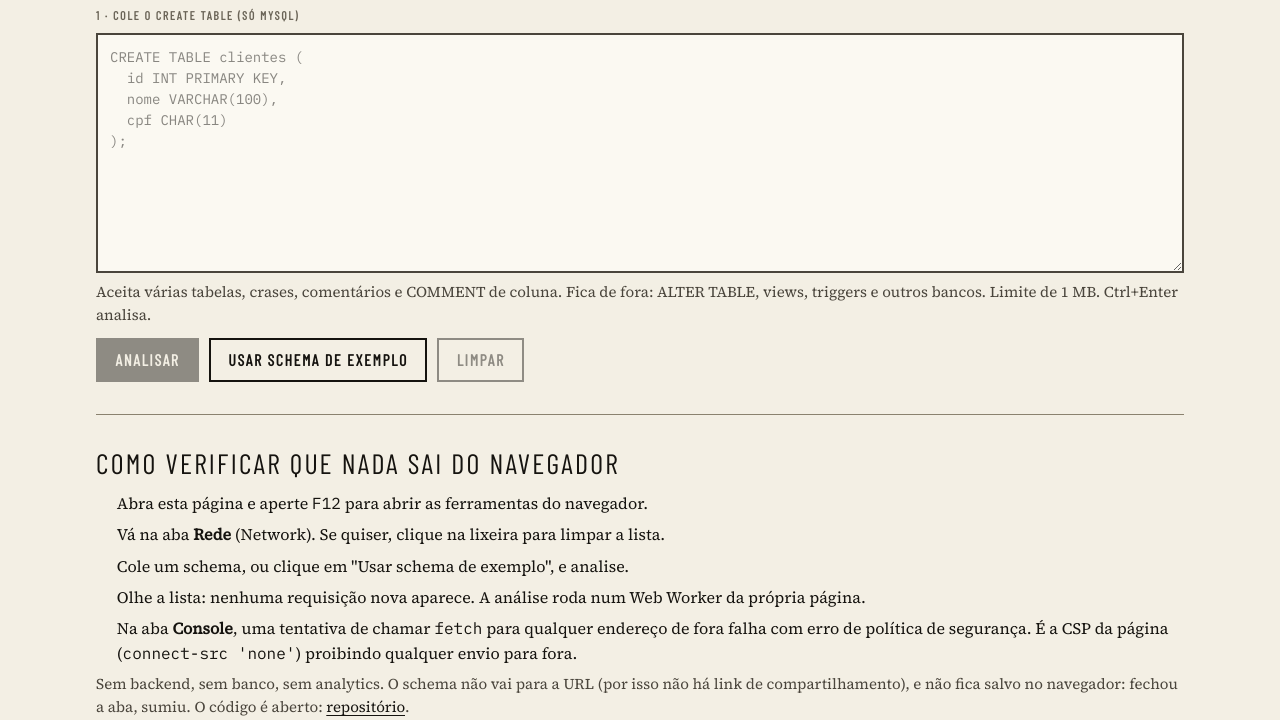
Test: interface: entrada, limite e erro › Limpar apaga tudo, inclusive o resultado
(page scrolled)
Click the button "Usar schema de exemplo" at (318, 360), box [209,338,428,382]
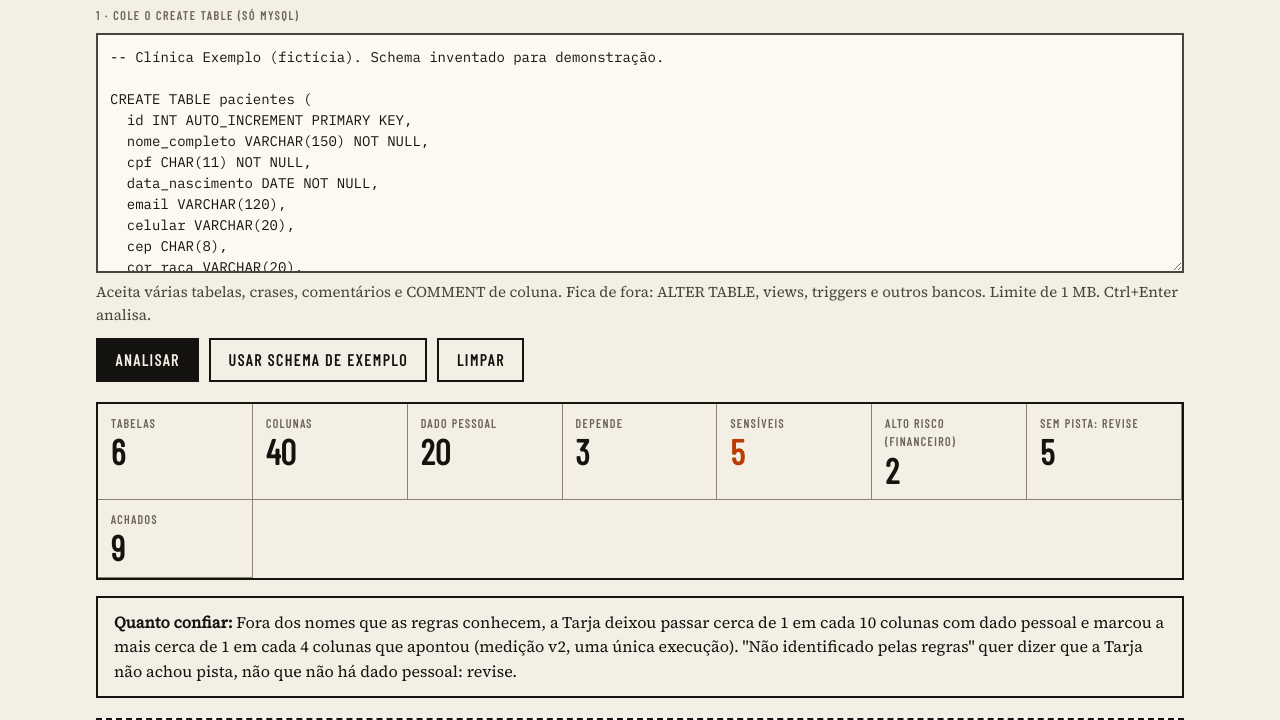
Click the button "Limpar" at (481, 360), box [437,338,524,382]
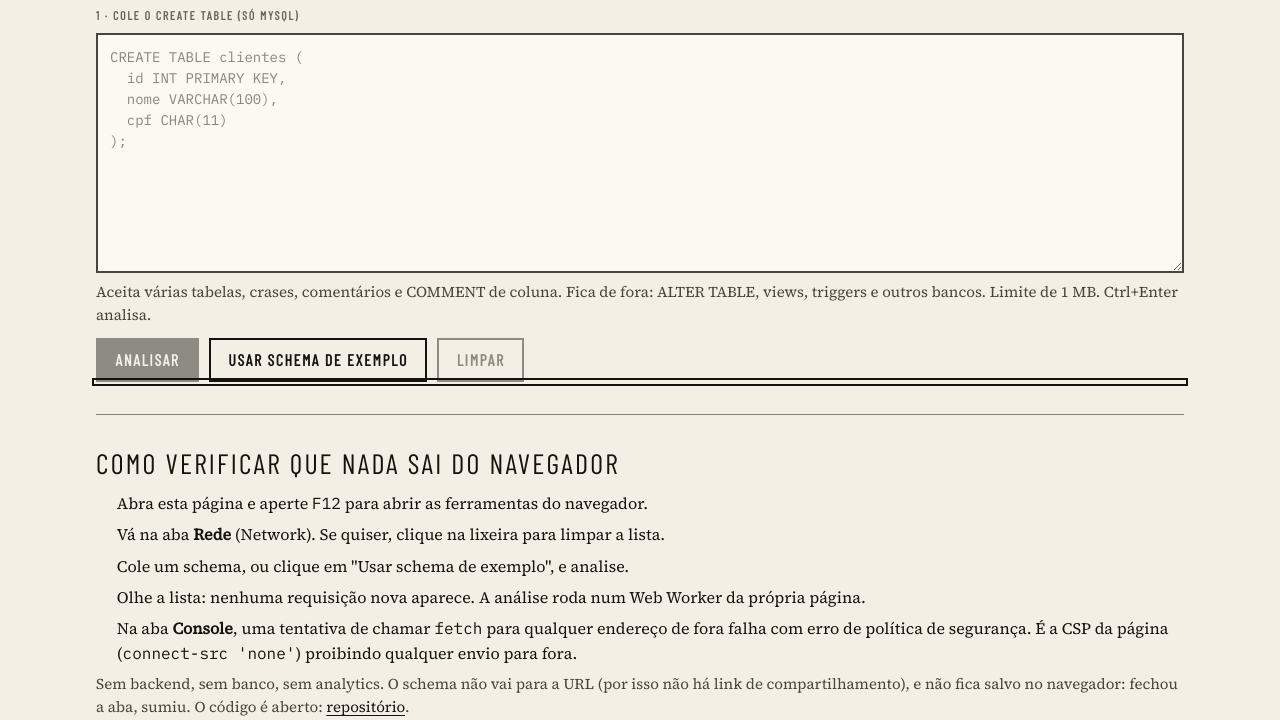
Expected: the text box is empty, [96,33,1184,273]
